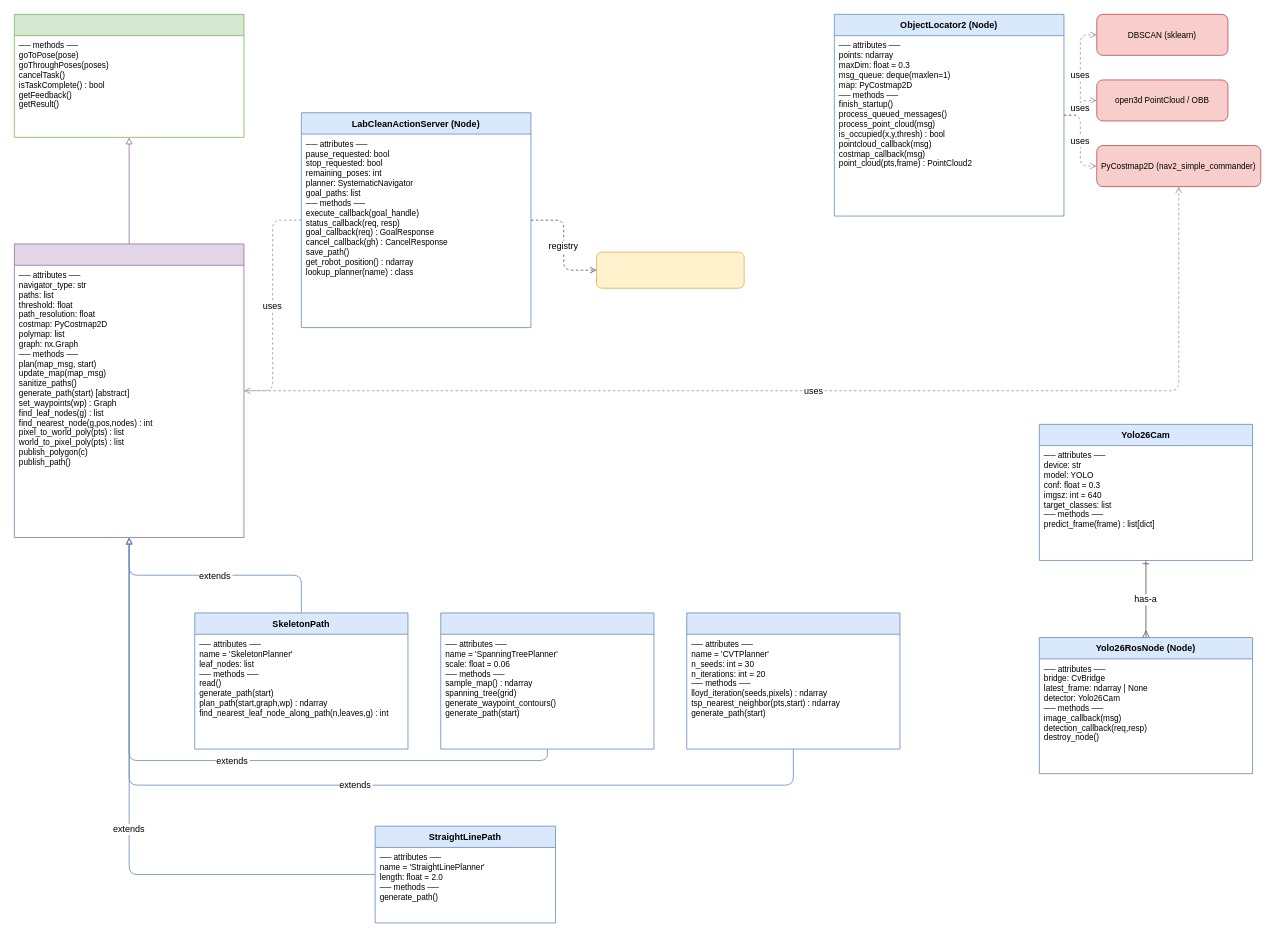
The diagram is 1275 pixels wide and 937 high, and some of its shapes have lost their labels. The box of each missing label's shape, as (x1, y1, x2, y2) in pixels:
BasicNavigator: (14, 14, 244, 137)
CVTPath: (686, 612, 900, 749)
PLANNERS: dict: (596, 251, 744, 288)
SpanningTreePath: (440, 612, 654, 749)
SystematicNavigator: (14, 243, 244, 538)
